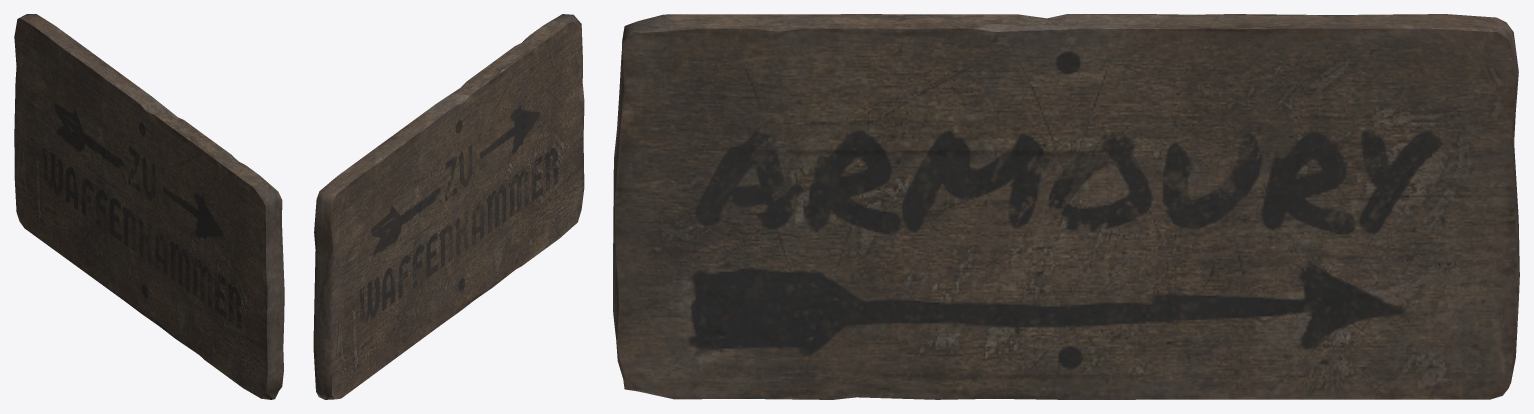
File: SM_Signpost01.glb
The picture shows the model from 3 angles, left to right: view 1: azimuth 30°, elevation 25°; view 2: azimuth 150°, elevation 25°; view 3: azimuth 270°, elevation 25°; orthographic projection. The views are drawn at different scales.
Visible parts, largest first — view 1: SM_Signpost01; view 2: SM_Signpost01; view 3: SM_Signpost01.
Boxes of the visible parts, left/top/right/bottom form: SM_Signpost01: left=14, top=14, right=284, bottom=399; SM_Signpost01: left=313, top=14, right=584, bottom=399; SM_Signpost01: left=613, top=14, right=1519, bottom=399.
Size of the model in its own units: 0.0306 by 0.3564 by 0.7872.
Materials: 1 (1 with a texture image).
